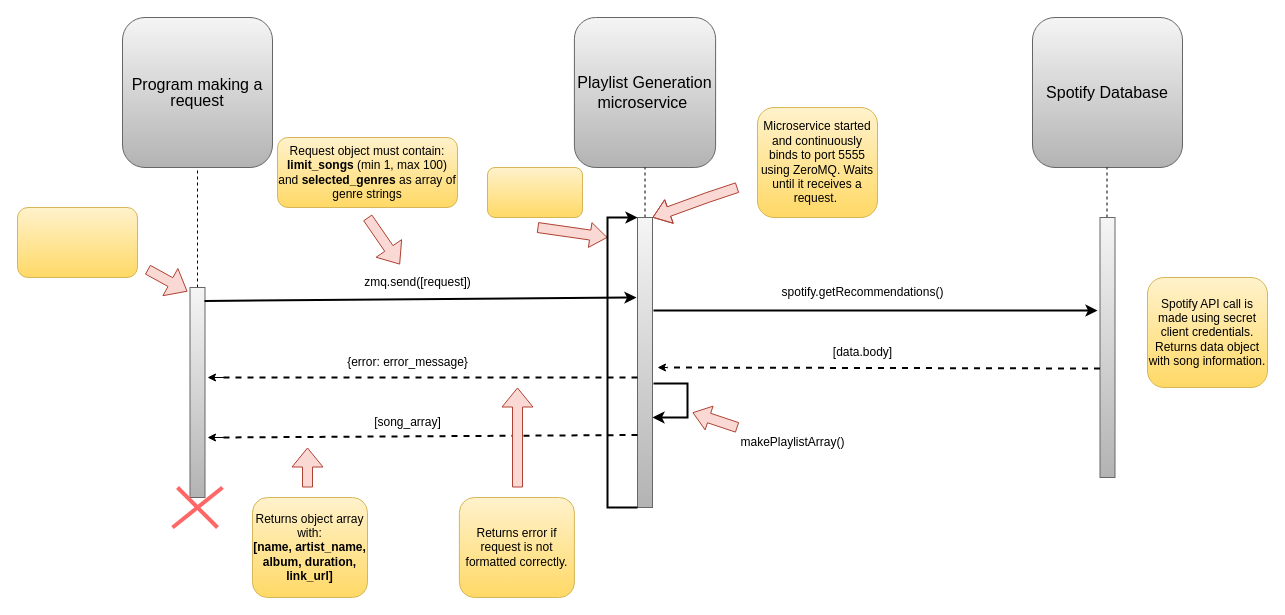
The diagram is 1285 pixels wide and 615 high, and some of its shapes have lost their labels. Each missing label, with the centre of its shape:
Loops Indefinitely using "for await": the point at 534,192
Request program is started and connects to port 5555 using ZeroMQ.: the point at 77,242
